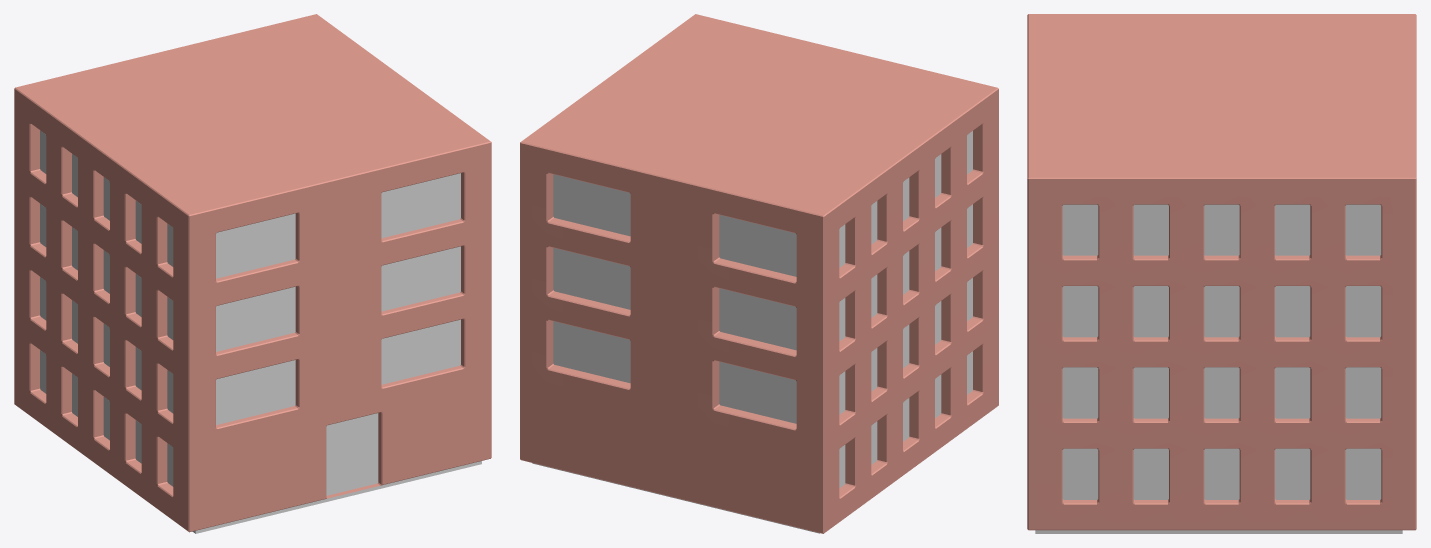
Rendered from Building1.fbx.
3 views of the same model, side by side, from view 1: azimuth 30°, elevation 25°; view 2: azimuth 150°, elevation 25°; view 3: azimuth 270°, elevation 25° (orthographic). The views are drawn at different scales.
Parts seen in each view (by area): view 1: polySurface6; view 2: polySurface6; view 3: polySurface6.
Part boxes in pixels (<box>): polySurface6: <box>14,14,491,533</box>; polySurface6: <box>520,14,998,533</box>; polySurface6: <box>1027,14,1416,533</box>.
Size of the model in its own units: 16.84 by 17.17 by 16.84.
